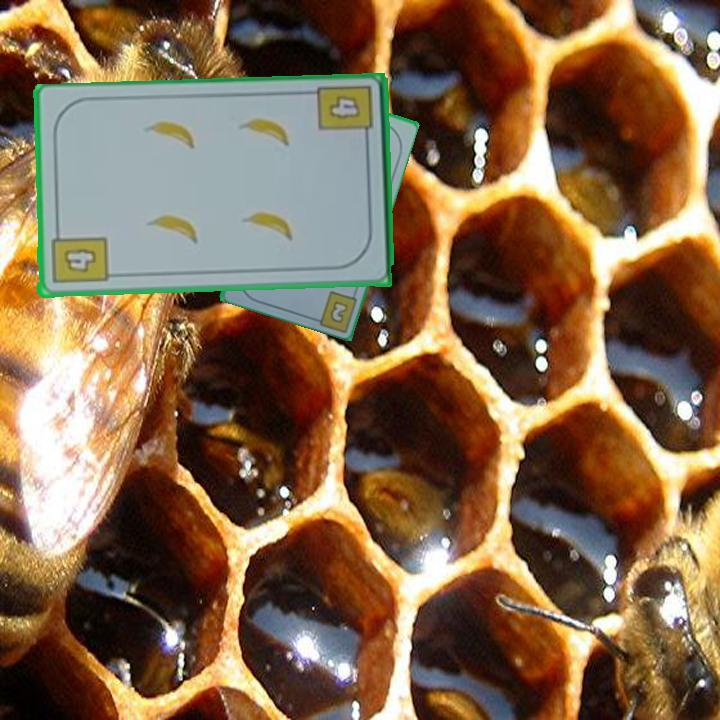2b: (326, 297, 351, 326)
4b: (314, 82, 376, 147), (47, 225, 110, 287)
